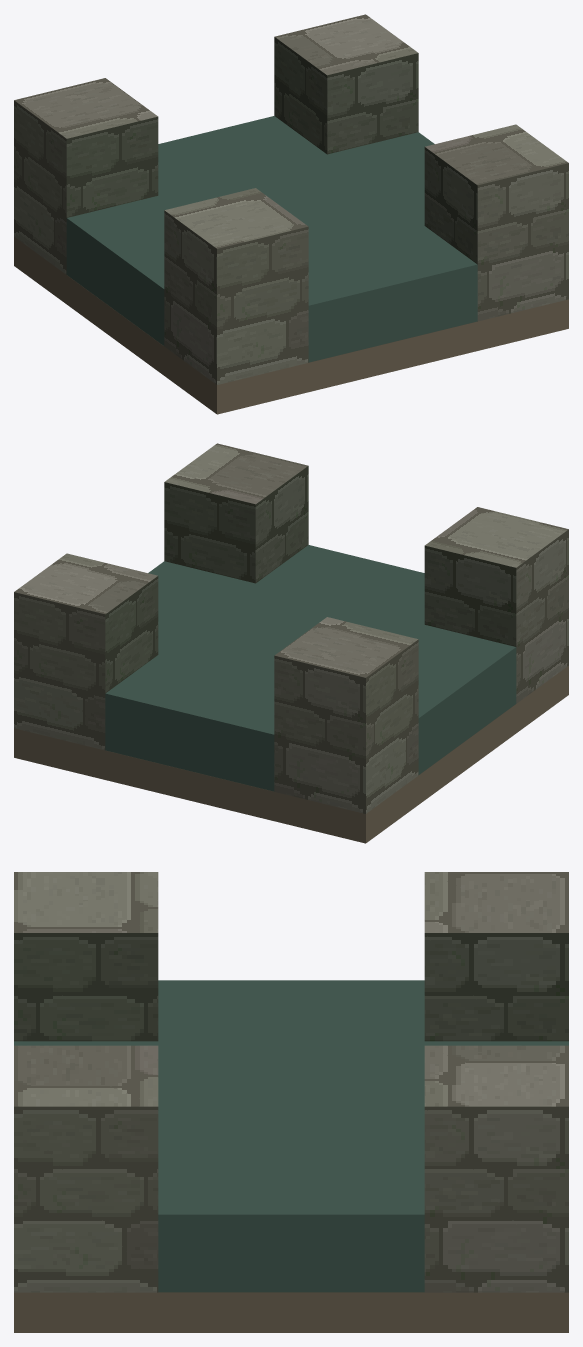
File: four_way_race.glb
The picture shows the model from 3 angles, top to bottom: view 1: azimuth 30°, elevation 25°; view 2: azimuth 150°, elevation 25°; view 3: azimuth 270°, elevation 25°; orthographic projection. The views are drawn at different scales.
Visible parts, largest first — view 1: Four-way race; view 2: Four-way race; view 3: Four-way race.
Boxes of the visible parts, <box> form: Four-way race: <box>14,14,568,414</box>; Four-way race: <box>14,443,568,843</box>; Four-way race: <box>14,872,568,1332</box>.
Size of the model in its own units: 2 by 0.9 by 2.
Materials: 6 (3 with a texture image).
